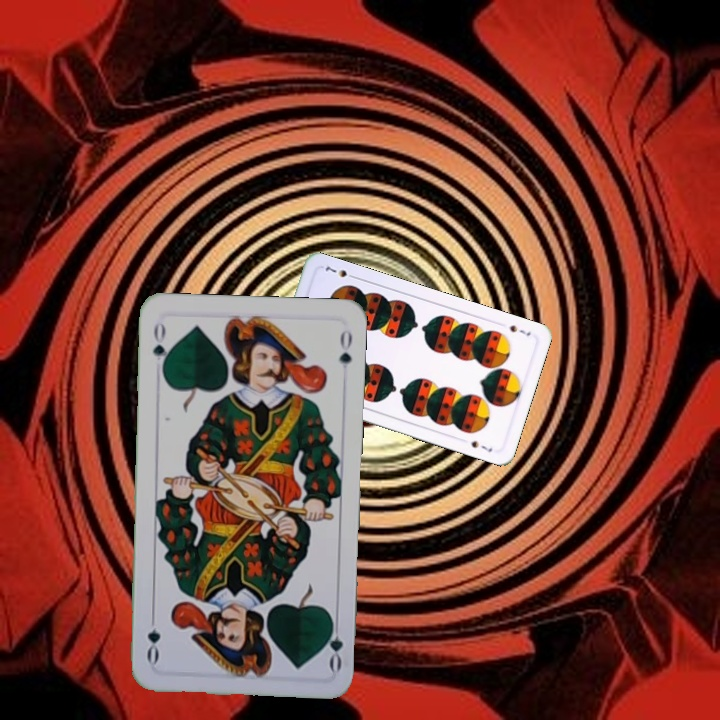GO: (320, 613, 346, 673), (148, 318, 171, 377)
S7: (506, 321, 533, 338)
